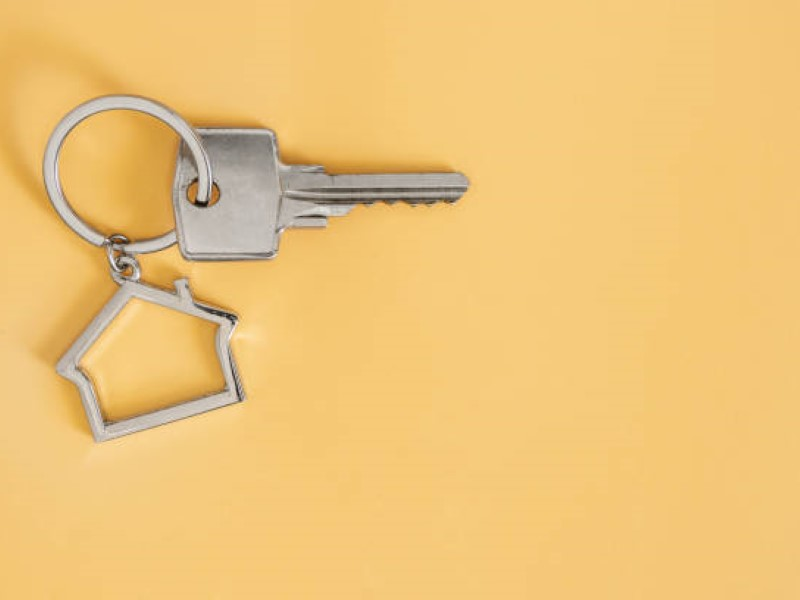key: (161, 117, 476, 267)
